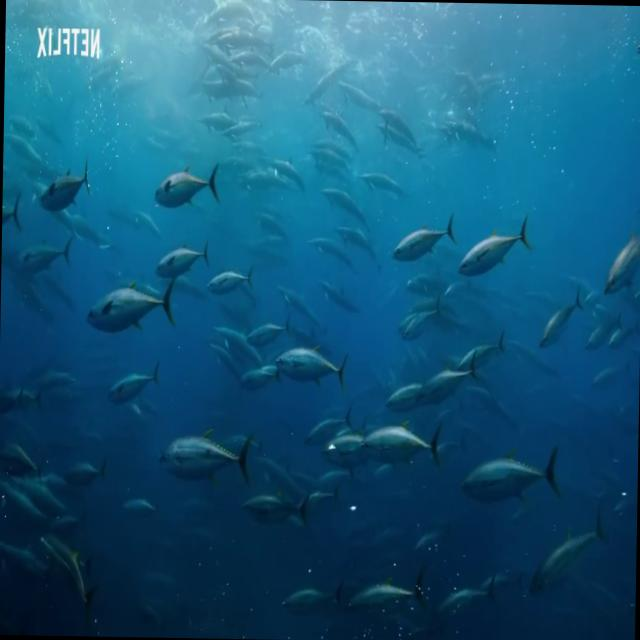fish: (72, 264, 177, 344), (458, 434, 564, 513), (525, 514, 608, 609), (153, 418, 253, 495), (33, 518, 106, 621), (354, 402, 448, 480), (458, 209, 538, 286), (148, 144, 227, 219), (391, 203, 464, 273), (34, 143, 102, 218), (410, 346, 485, 410), (276, 336, 356, 391), (431, 564, 504, 620), (346, 568, 428, 617), (278, 570, 344, 630), (533, 280, 588, 352), (237, 487, 316, 535), (104, 357, 164, 418), (199, 250, 257, 306), (601, 222, 640, 305), (0, 525, 48, 586), (0, 432, 50, 488), (156, 230, 210, 280), (232, 342, 288, 388), (0, 372, 50, 423), (66, 449, 112, 503), (244, 306, 294, 352), (326, 420, 370, 467), (387, 362, 424, 414), (481, 322, 523, 361)
